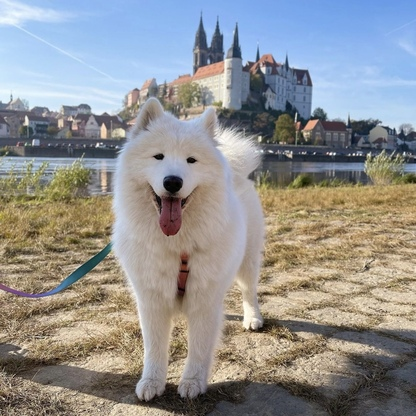samoyed: (104, 93, 271, 408)
